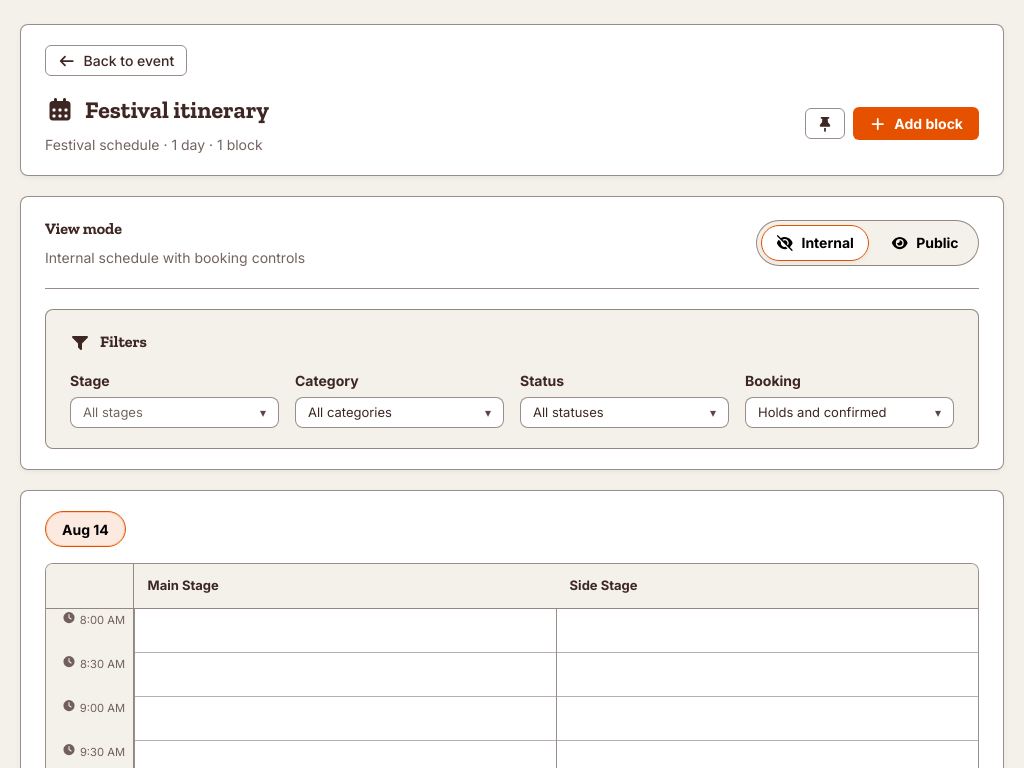
it: FestivalItineraryPage › renders blocks from the public itinerary in public view mode
Click the button with test id "festival-view-public". click: [925, 242]
box: left=875, top=224, right=974, bottom=260
(page scrolled)
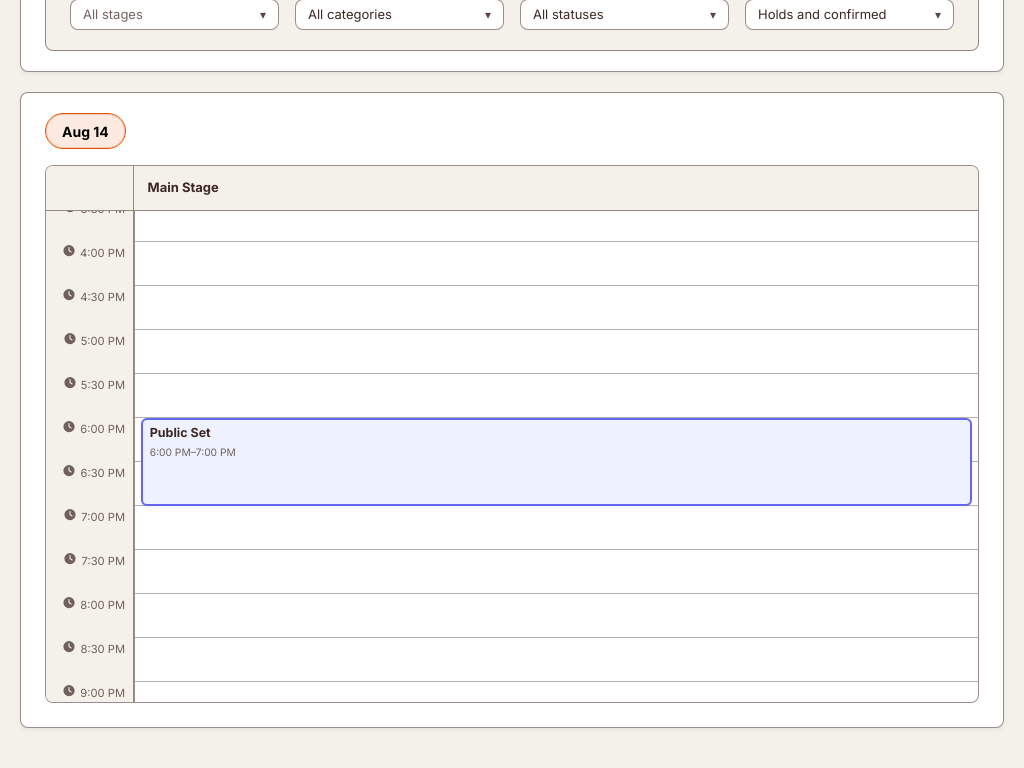
Expected: the text "Public Set" is shown, left=150, top=425, right=211, bottom=440
